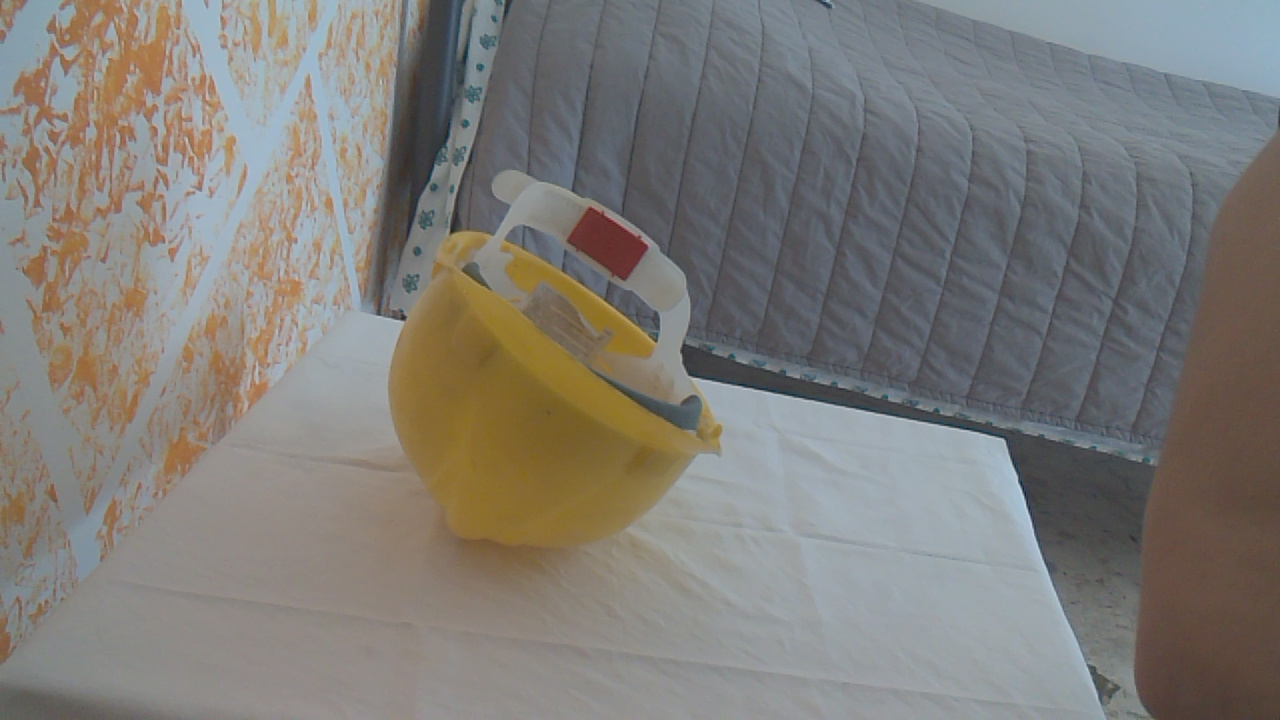Helmet: (391, 168, 728, 567)
